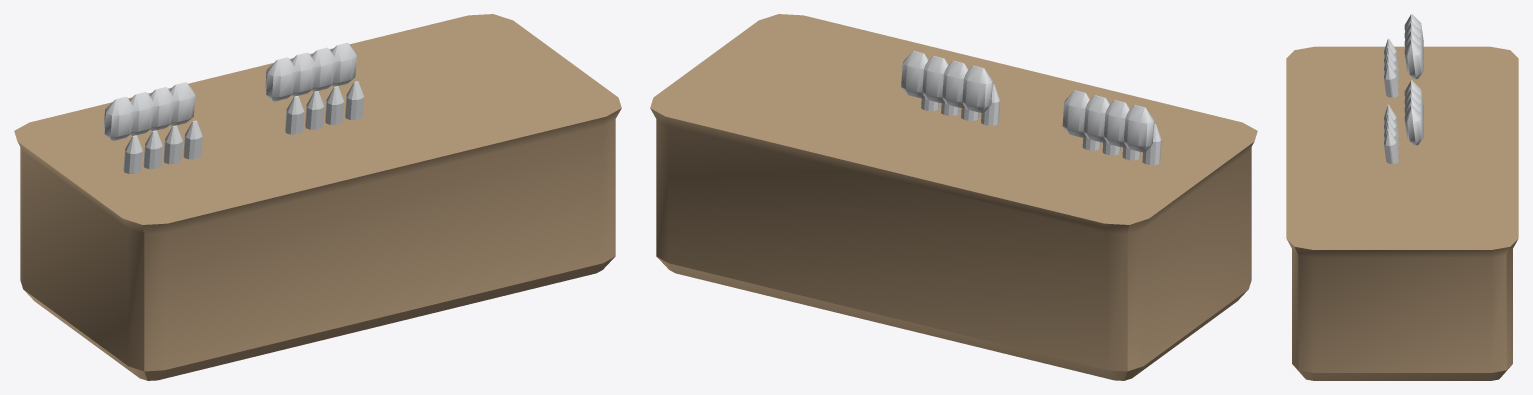
Rendered from bakery-and-cafe-cutlery-napkin-station-2ebe6121__22137.glb.
3 views of the same model, side by side, from view 1: azimuth 30°, elevation 25°; view 2: azimuth 150°, elevation 25°; view 3: azimuth 270°, elevation 25° (orthographic). The views are drawn at different scales.
Visible parts, largest first — view 1: cutlery-napkin-station; view 2: cutlery-napkin-station; view 3: cutlery-napkin-station.
Part boxes in pixels (x1,y1,x2,y2): cutlery-napkin-station: [14, 14, 621, 380]; cutlery-napkin-station: [650, 14, 1257, 380]; cutlery-napkin-station: [1286, 14, 1518, 380].
Bounding box in the file's own units: 0.348 × 0.1529 × 0.168.
